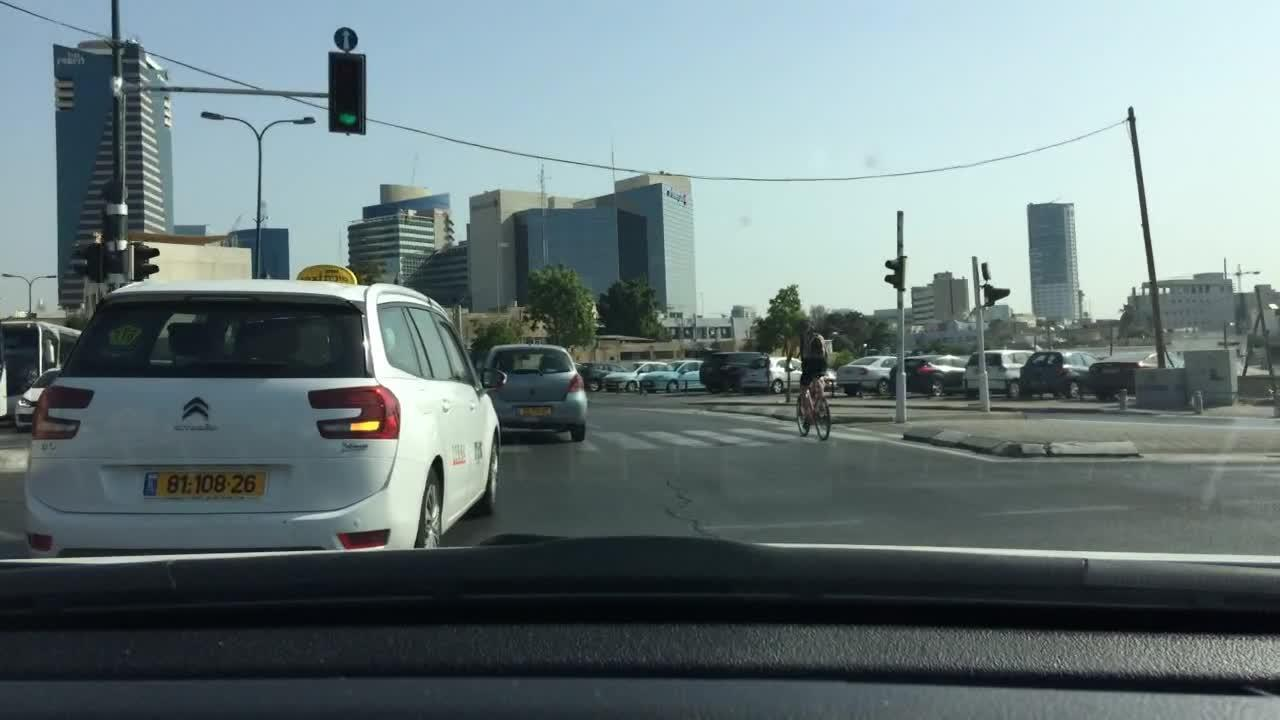Citroen: (174, 388, 226, 436)
